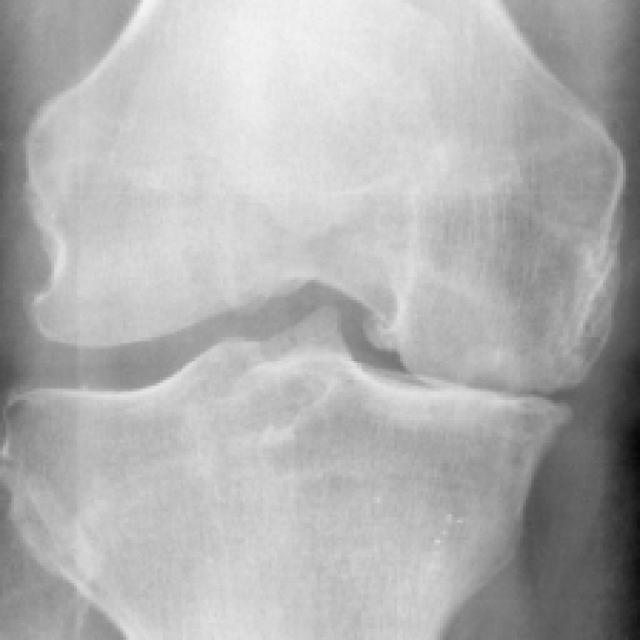femur: (20, 0, 630, 394)
tibia: (9, 306, 575, 640)
